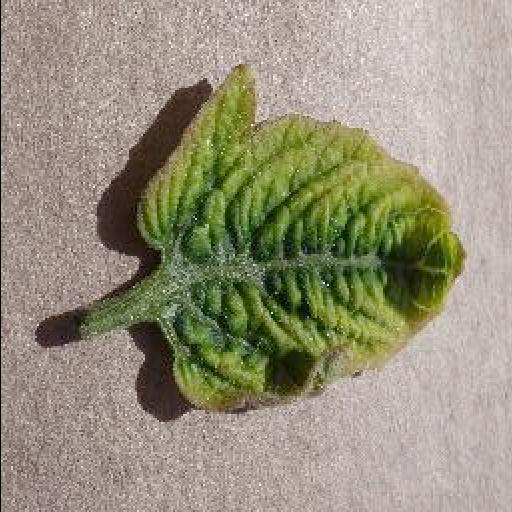disease_tomato: (134, 64, 464, 418)
